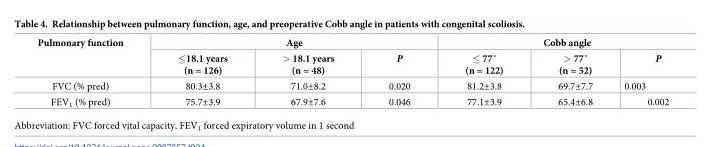table: (36, 37, 668, 107)
table column: (36, 37, 149, 107), (254, 37, 360, 107), (149, 37, 254, 107), (437, 37, 530, 107), (360, 37, 437, 107), (530, 37, 607, 107), (607, 37, 668, 107)
table column header: (36, 37, 668, 77)
table row: (36, 49, 668, 77), (36, 77, 668, 93), (36, 93, 668, 107), (36, 37, 668, 49)
table spanning cell: (36, 37, 149, 77), (149, 37, 437, 49), (437, 37, 668, 49)
